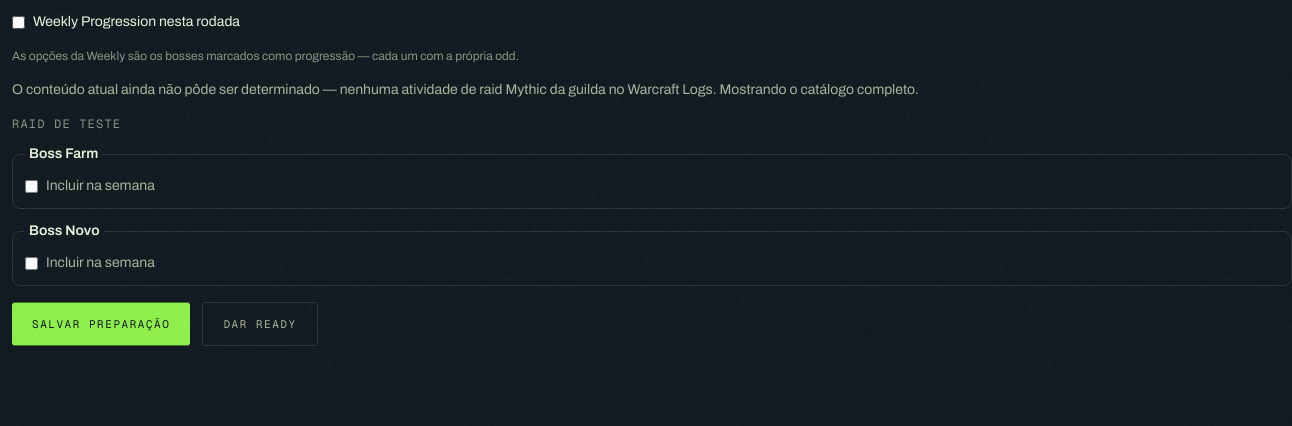
Test case: T-UI21 — preparar a semana (D-45, D-54) › progressão só oferece First Death (D-29); a Weekly não marca boss (D-54)
Click the checkbox labelled "Incluir na semana" below "Boss Novo" at (32, 263), box [25,256,38,270]
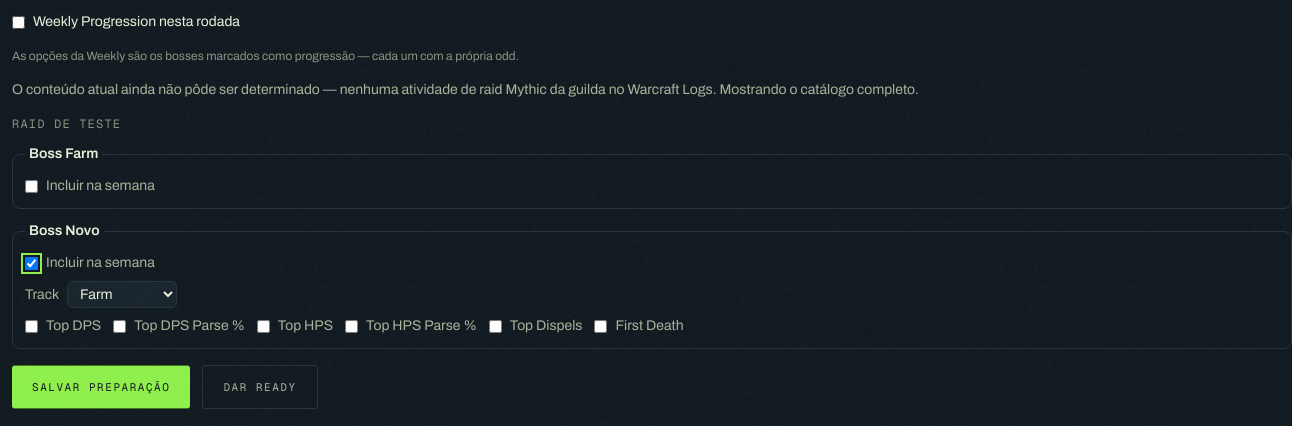
Select "Progressão" in the dropdown labelled "Track" at (122, 294), box [67,281,177,308]
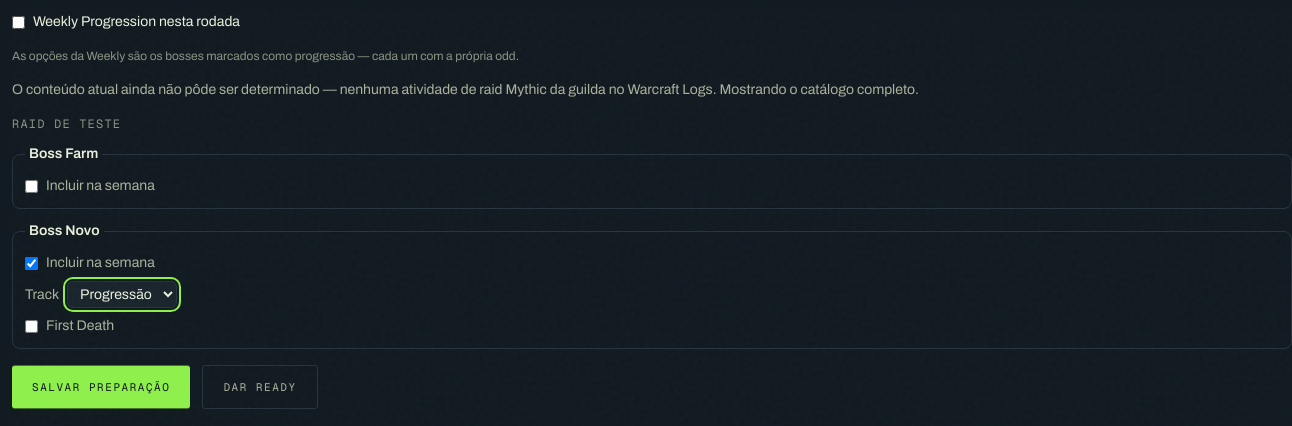
Check: the checkbox labelled "First Death" is shown, box [25,320,38,332]
Check: the label "Top DPS" is gone
